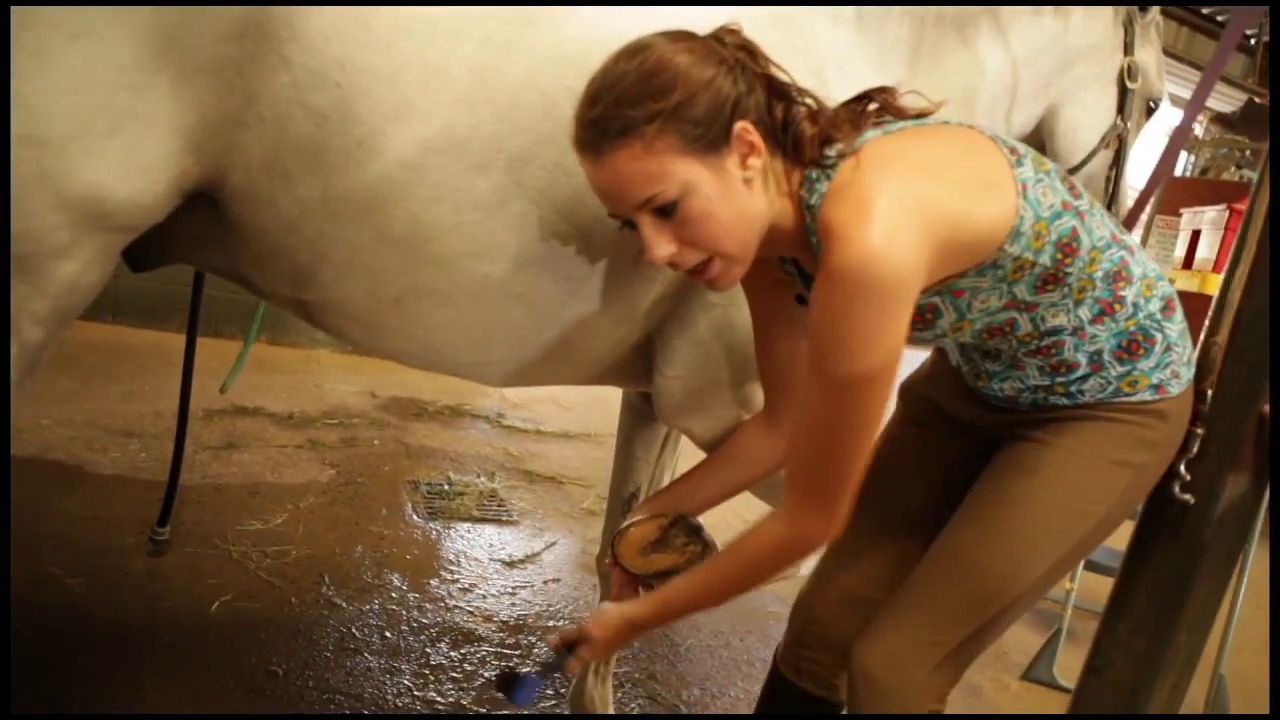person: (544, 22, 1195, 715)
